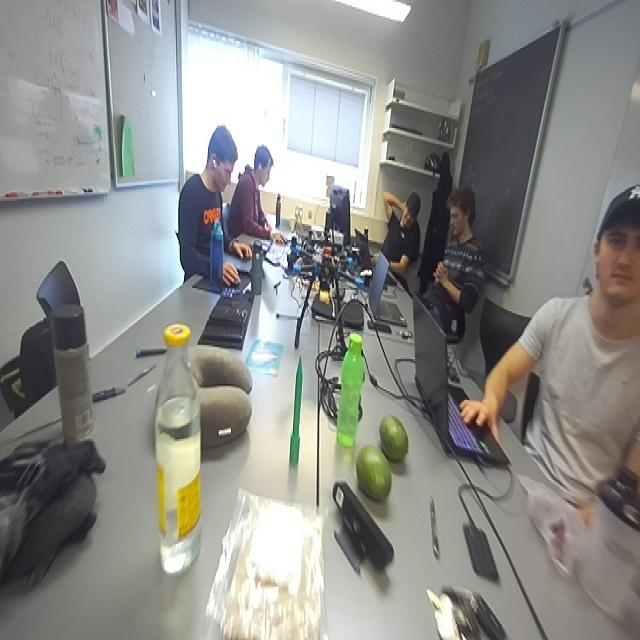probe: (288, 354, 303, 466)
